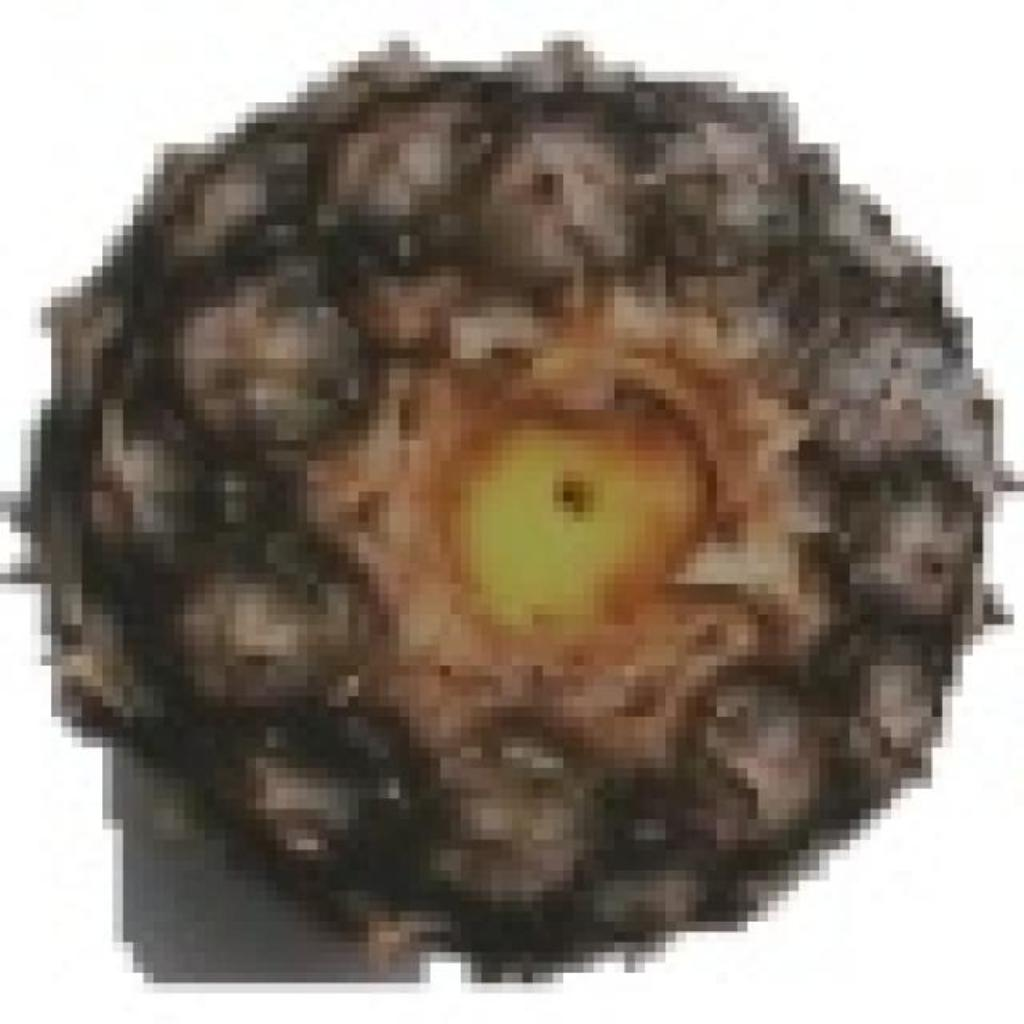pineapple: (51, 31, 1004, 963)
